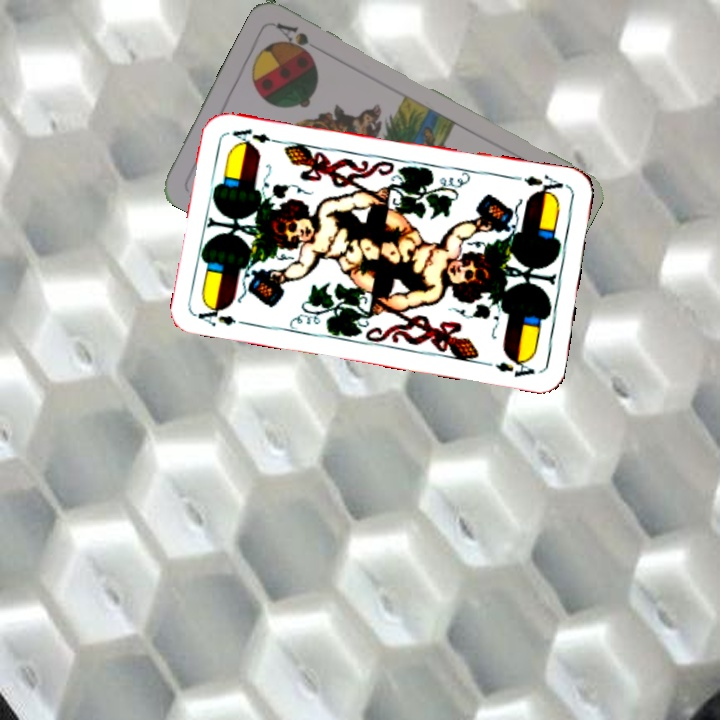EA: (194, 300, 253, 329), (511, 171, 570, 199)
